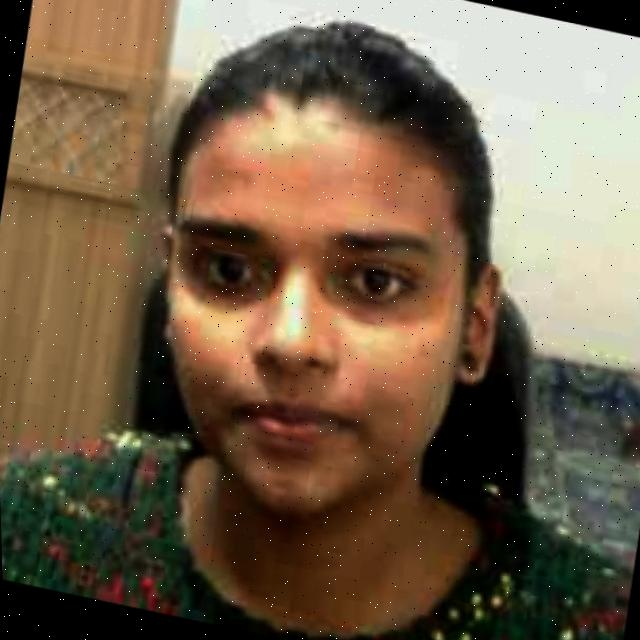puffy_eyes: (189, 251, 278, 313), (328, 288, 412, 327)
